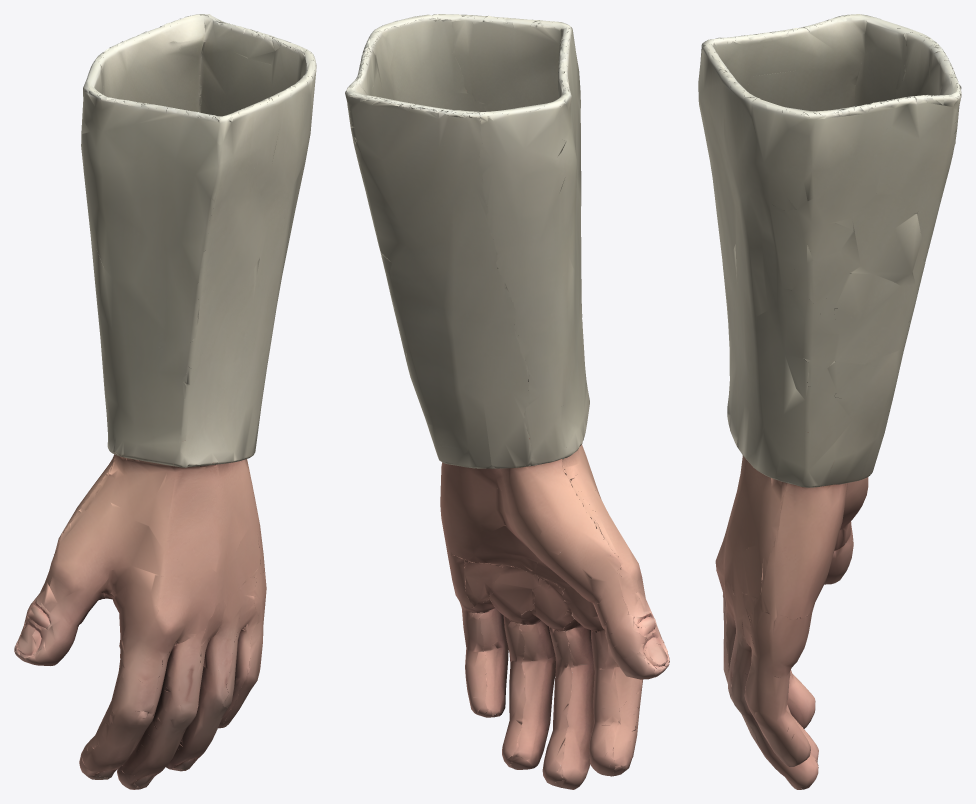
Rendered from manoIzq.obj.
3 renders of one model, left to right at view 1: azimuth 30°, elevation 25°; view 2: azimuth 150°, elevation 25°; view 3: azimuth 270°, elevation 25°, orthographic. The views are drawn at different scales.
Parts seen in each view (by area): view 1: model.006; view 2: model.006; view 3: model.006.
Part boxes in pixels (x1,y1,x2,y2): model.006: [14, 14, 316, 789]; model.006: [345, 14, 669, 789]; model.006: [698, 14, 961, 789].
Size of the model in its own units: 0.137 by 0.3166 by 0.1002.
1 material, 1 textured.
